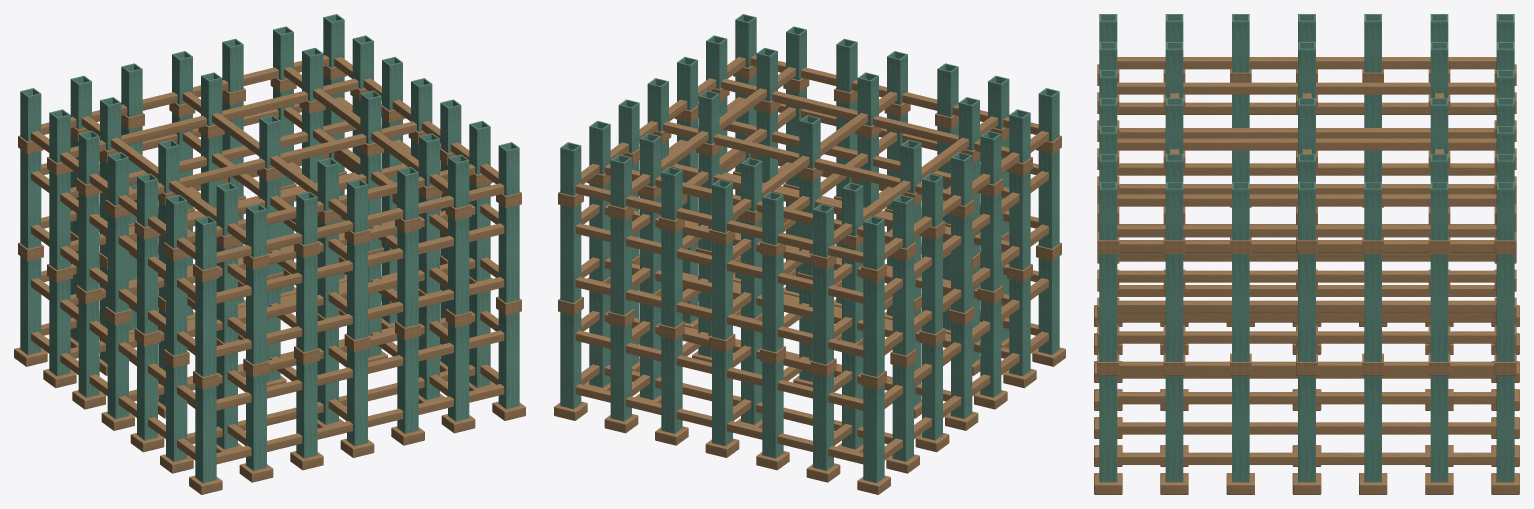
3 views of the same model, side by side, from view 1: azimuth 30°, elevation 25°; view 2: azimuth 150°, elevation 25°; view 3: azimuth 270°, elevation 25° (orthographic). The views are drawn at different scales.
Visible parts, largest first — view 1: Tier 2 internal tie 0-0.56-0-0.25, Tier 2 internal tie 0-0-0-0.25, Tier 1 tie 0-0-0.25, Tier 1 tie 0-0-0.75, Tier 2 tie 0-0-0.25, Tier 0 tie 0-0-0.25, Tier 0 tie 0-0-0.75, Tier 1 upright 0, Tier 0 upright 0, Tier 1 upright 5, Tier 1 upright 2, Tier 1 upright 4 (+95 smaller); view 2: Tier 2 internal tie 0--0.56-0-0.25, Tier 2 internal tie 0-0-0-0.25, Tier 1 tie 2-0-0.25, Tier 1 tie 2-0-0.75, Tier 2 tie 2-0-0.25, Tier 0 tie 2-0-0.25, Tier 0 tie 2-0-0.75, Tier 1 upright 18, Tier 0 upright 18, Tier 1 upright 13, Tier 1 upright 14, Tier 1 upright 16 (+95 smaller); view 3: Tier 2 internal tie 1--0.56-0-0.25, Tier 2 internal tie 1-0-0-0.25, Tier 0 internal tie 1-0.56-0-0.25, Tier 1 tie 1-0-0.25, Tier 2 internal tie 1-0.56-0-0.25, Tier 0 tie 1-0-0.25, Tier 0 tie 1-0-0.75, Tier 1 internal tie 1-0.56-0-0.25, Tier 1 tie 1-0-0.75, Tier 2 tie 1-0-0.25, Tier 2 tie 3-0-0.25, Tier 1 tie 3-0-0.25 (+67 smaller).
Boxes of the visible parts, x1,y1,x2,y2 form: Tier 2 internal tie 0-0.56-0-0.25: (70, 78, 358, 157); Tier 2 internal tie 0-0-0-0.25: (129, 121, 416, 200); Tier 1 tie 0-0-0.25: (216, 277, 504, 357); Tier 1 tie 0-0-0.75: (216, 223, 504, 303); Tier 2 tie 0-0-0.25: (216, 183, 504, 263); Tier 0 tie 0-0-0.25: (216, 384, 504, 464); Tier 0 tie 0-0-0.75: (216, 330, 504, 410); Tier 1 upright 0: (195, 277, 216, 376); Tier 0 upright 0: (195, 384, 216, 483); Tier 1 upright 5: (448, 216, 469, 315); Tier 1 upright 2: (296, 252, 317, 352); Tier 1 upright 4: (397, 228, 418, 327); Tier 2 internal tie 0--0.56-0-0.25: (721, 78, 1009, 157); Tier 2 internal tie 0-0-0-0.25: (663, 121, 950, 200); Tier 1 tie 2-0-0.25: (575, 277, 863, 357); Tier 1 tie 2-0-0.75: (575, 223, 863, 303); Tier 2 tie 2-0-0.25: (575, 183, 863, 263); Tier 0 tie 2-0-0.25: (575, 384, 863, 464); Tier 0 tie 2-0-0.75: (575, 330, 863, 410); Tier 1 upright 18: (863, 277, 884, 376); Tier 0 upright 18: (863, 384, 884, 483); Tier 1 upright 13: (610, 216, 631, 315); Tier 1 upright 14: (661, 228, 682, 327); Tier 1 upright 16: (762, 252, 783, 352); Tier 2 internal tie 1--0.56-0-0.25: (1117, 82, 1496, 94); Tier 2 internal tie 1-0-0-0.25: (1117, 138, 1496, 150); Tier 0 internal tie 1-0.56-0-0.25: (1117, 422, 1496, 434); Tier 1 tie 1-0-0.25: (1117, 331, 1496, 343); Tier 2 internal tie 1-0.56-0-0.25: (1117, 194, 1496, 206); Tier 0 tie 1-0-0.25: (1117, 452, 1496, 464); Tier 0 tie 1-0-0.75: (1117, 392, 1496, 404); Tier 1 internal tie 1-0.56-0-0.25: (1117, 300, 1496, 312); Tier 1 tie 1-0-0.75: (1117, 270, 1496, 282); Tier 2 tie 1-0-0.25: (1117, 225, 1496, 237); Tier 2 tie 3-0-0.25: (1117, 57, 1496, 69); Tier 1 tie 3-0-0.25: (1117, 163, 1496, 175).
Bounding box in the file's own units: 1.8 × 1.42 × 1.8.
2 materials, 2 textured.
